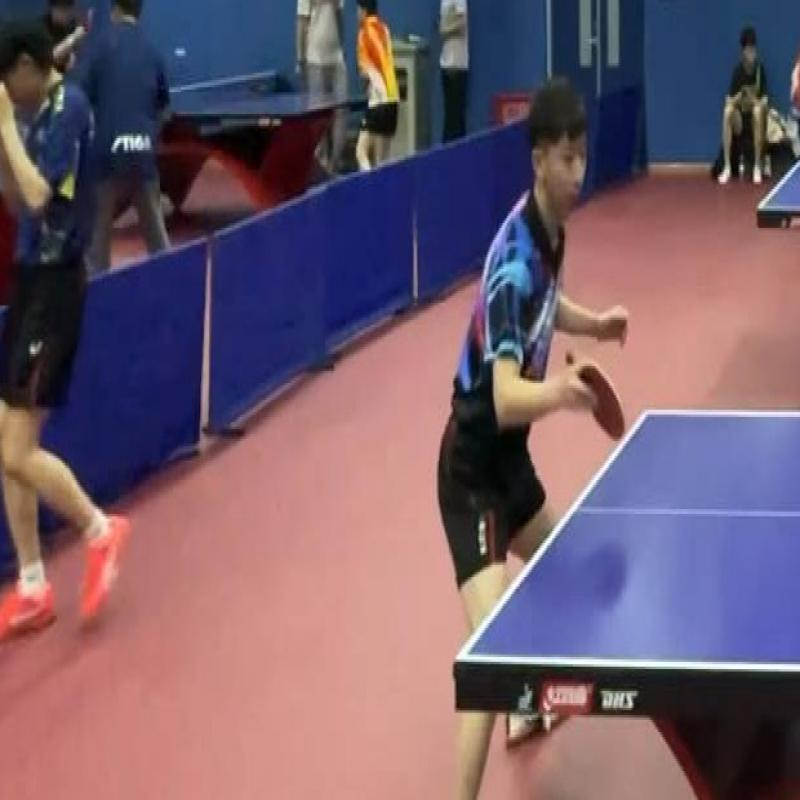bats: (557, 349, 635, 458)
